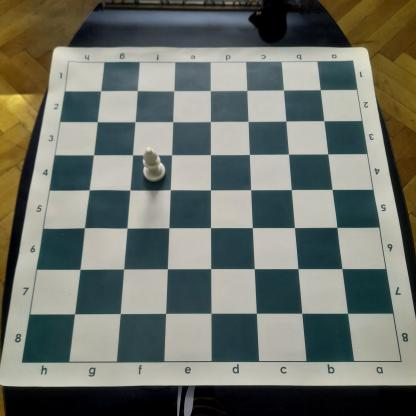white-bishop: (141, 146, 167, 183)
